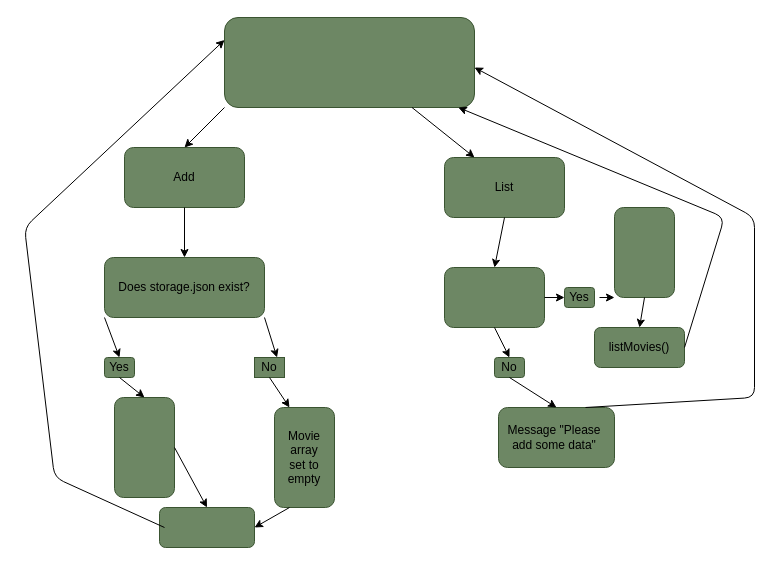
This 780x565 diagram has some shape labels left out. Here are the shapes that lost their labels. From the top down, the centre of each, then its label:
point (349, 62): Terminal - command type
point (644, 252): Movies arr taken from storage.js
point (494, 297): Does storage.json exist
point (144, 447): Movie arr taken from storage js
point (206, 527): Add movie
